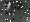person: (6, 2, 13, 16), (18, 3, 24, 14)
